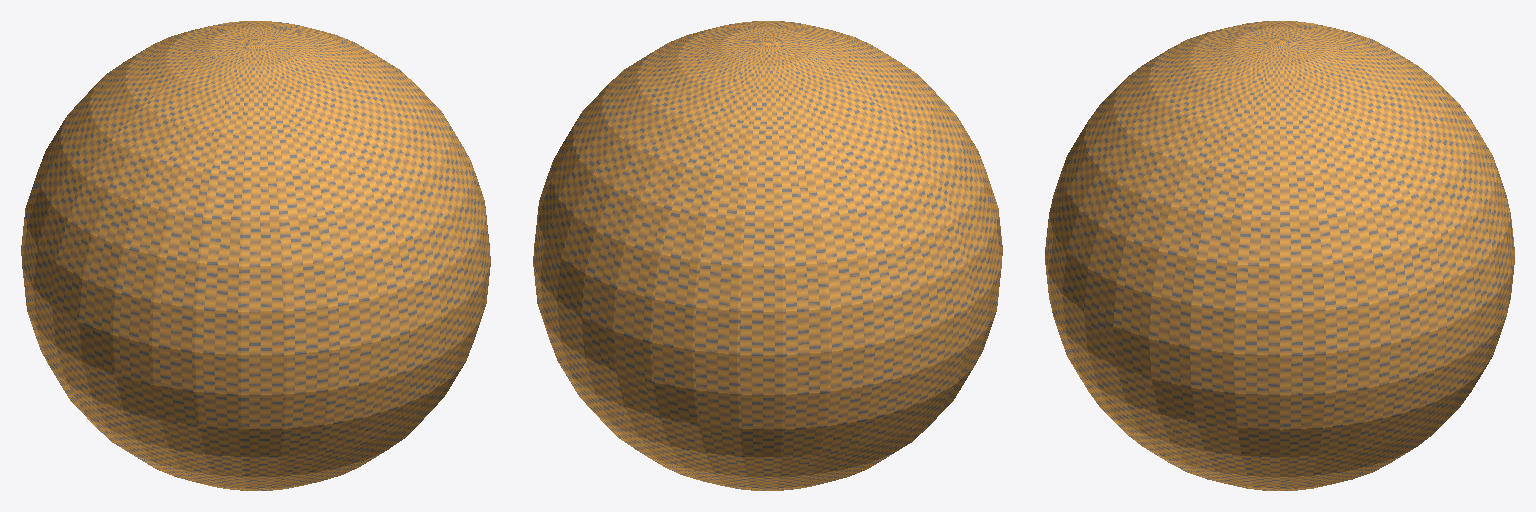
The picture shows the model from 3 angles: view 1: azimuth 30°, elevation 25°; view 2: azimuth 150°, elevation 25°; view 3: azimuth 270°, elevation 25°; orthographic projection.
Visible parts, largest first — view 1: Sphere; view 2: Sphere; view 3: Sphere.
Part boxes in pixels (x1,y1,x2,y2): Sphere: (21, 21, 490, 490); Sphere: (533, 21, 1002, 490); Sphere: (1045, 21, 1514, 490).
Size of the model in its own units: 2 by 2 by 2.
Materials: 1 (1 with a texture image).